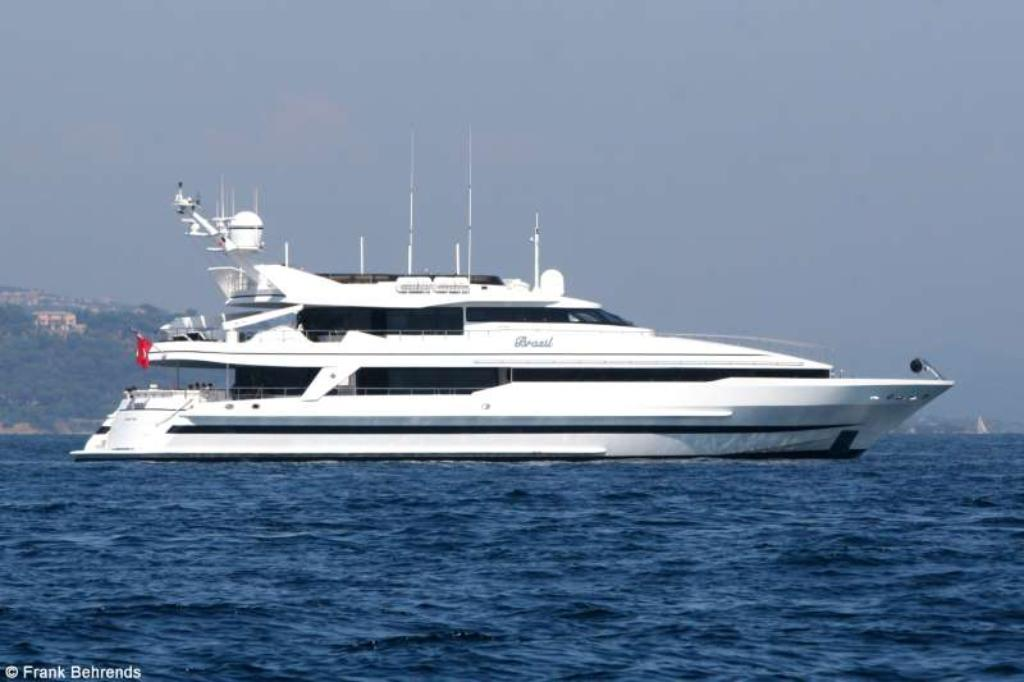PassengerShip: (73, 174, 953, 452)
